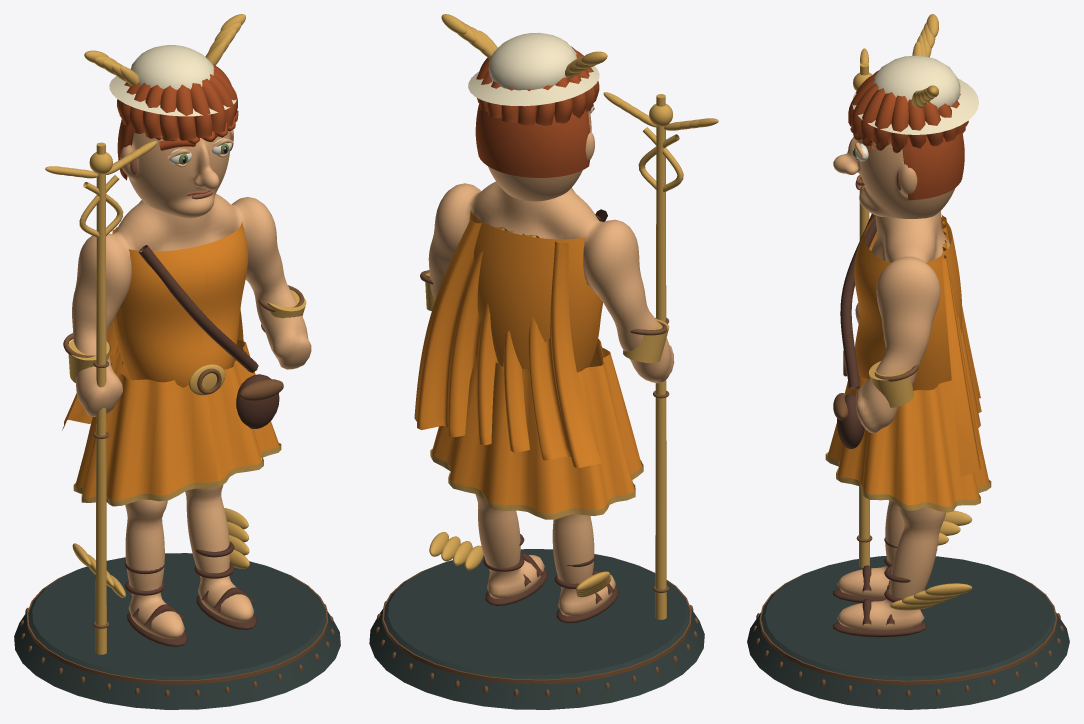
File: hermes-7587579c2fa5.glb
3 renders of one model, left to right at view 1: azimuth 30°, elevation 25°; view 2: azimuth 150°, elevation 25°; view 3: azimuth 270°, elevation 25°, orthographic. The views are drawn at different scales.
Parts seen in each view (by area): view 1: Body Basalt, Body Signature cloth, Body Skin, Body Metal, Head Hair, Head Skin, Body Leather, Body Engraved metal, Head Linen, Head Metal, Cape Signature cloth; view 2: Body Basalt, Body Signature cloth, Cape Signature cloth, Body Skin, Body Metal, Head Hair, Head Linen, Body Engraved metal, Head Skin, Body Leather, Head Metal; view 3: Body Basalt, Body Signature cloth, Body Skin, Head Hair, Body Metal, Head Skin, Body Leather, Cape Signature cloth, Head Linen, Body Engraved metal, Head Metal.
Boxes of the visible parts, x1,y1,x2,y2 form: Body Basalt: (14,553,340,709); Body Signature cloth: (74,222,279,505); Body Skin: (72,193,311,639); Body Metal: (45,141,306,654); Head Hair: (117,64,237,180); Head Skin: (120,129,233,218); Body Leather: (122,245,279,646); Body Engraved metal: (20,285,334,696); Head Linen: (109,45,237,116); Head Metal: (84,14,245,85); Cape Signature cloth: (62,227,243,430); Body Basalt: (369,549,704,709); Body Signature cloth: (431,210,642,513); Cape Signature cloth: (414,219,601,467); Body Skin: (428,181,674,616); Body Metal: (425,92,718,619); Head Hair: (475,46,599,177); Head Linen: (468,32,599,106); Body Engraved metal: (376,270,698,696); Head Skin: (488,106,594,201); Body Leather: (483,209,618,623); Head Metal: (441,14,607,78); Body Basalt: (747,556,1069,709); Body Signature cloth: (827,217,989,512); Body Skin: (837,211,950,630); Head Hair: (848,70,968,199); Body Metal: (825,48,991,610); Head Skin: (833,137,955,218); Body Leather: (833,214,926,637); Cape Signature cloth: (942,215,981,477); Head Linen: (852,55,978,134); Body Engraved metal: (753,350,1063,697); Head Metal: (912,14,938,108).
Size of the model in its own units: 1.88 by 3.63 by 1.8.
